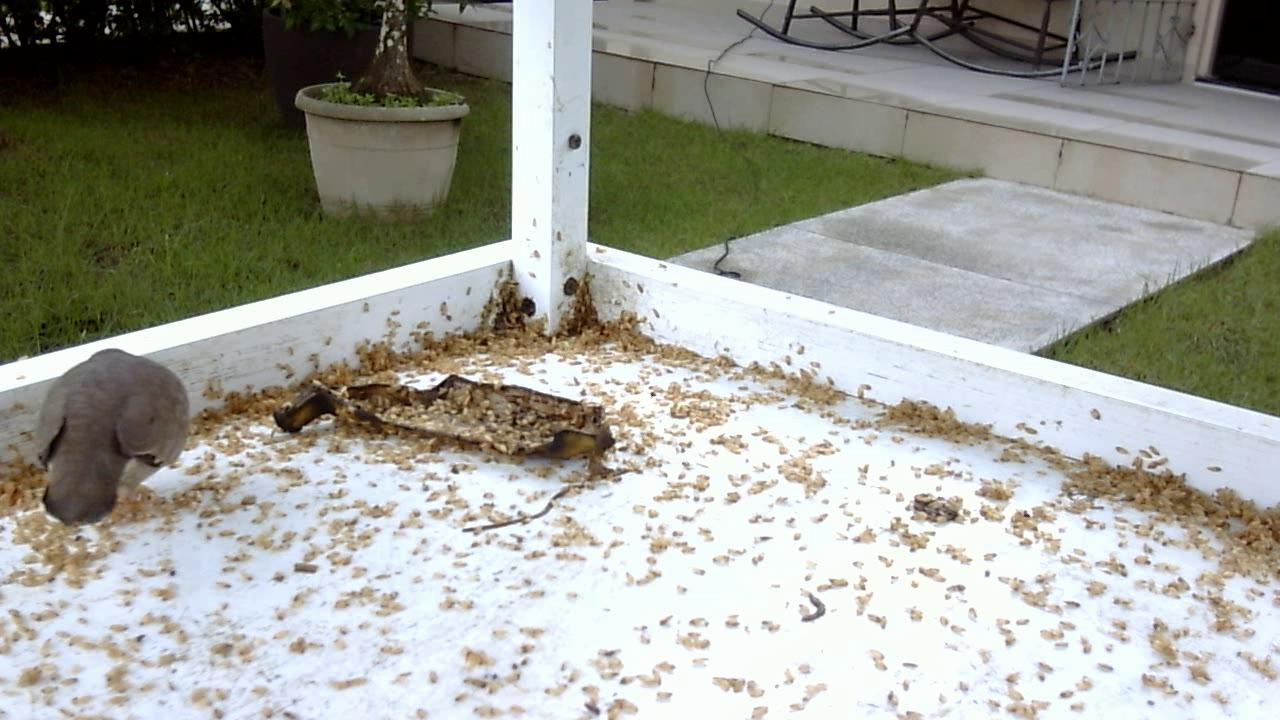rolinha: (28, 341, 198, 532)
